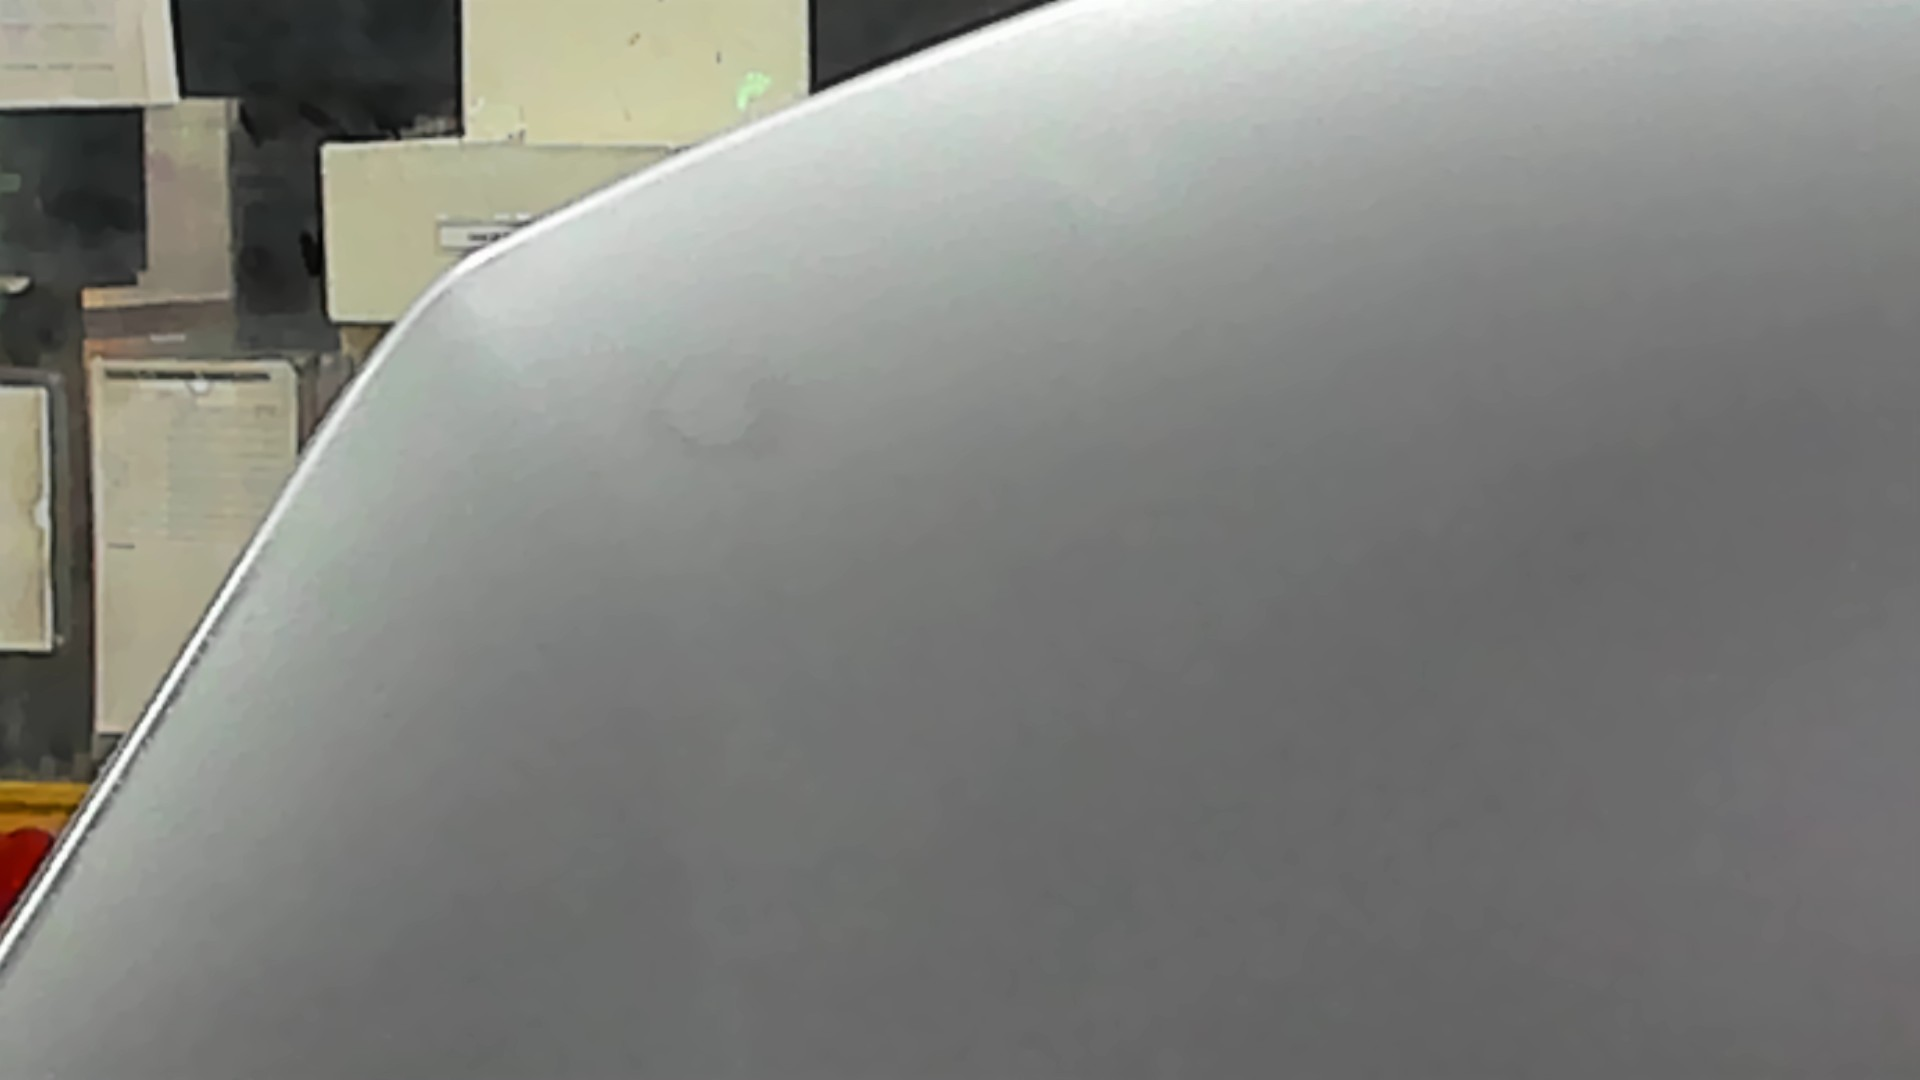capo: (596, 228, 1920, 1080)
